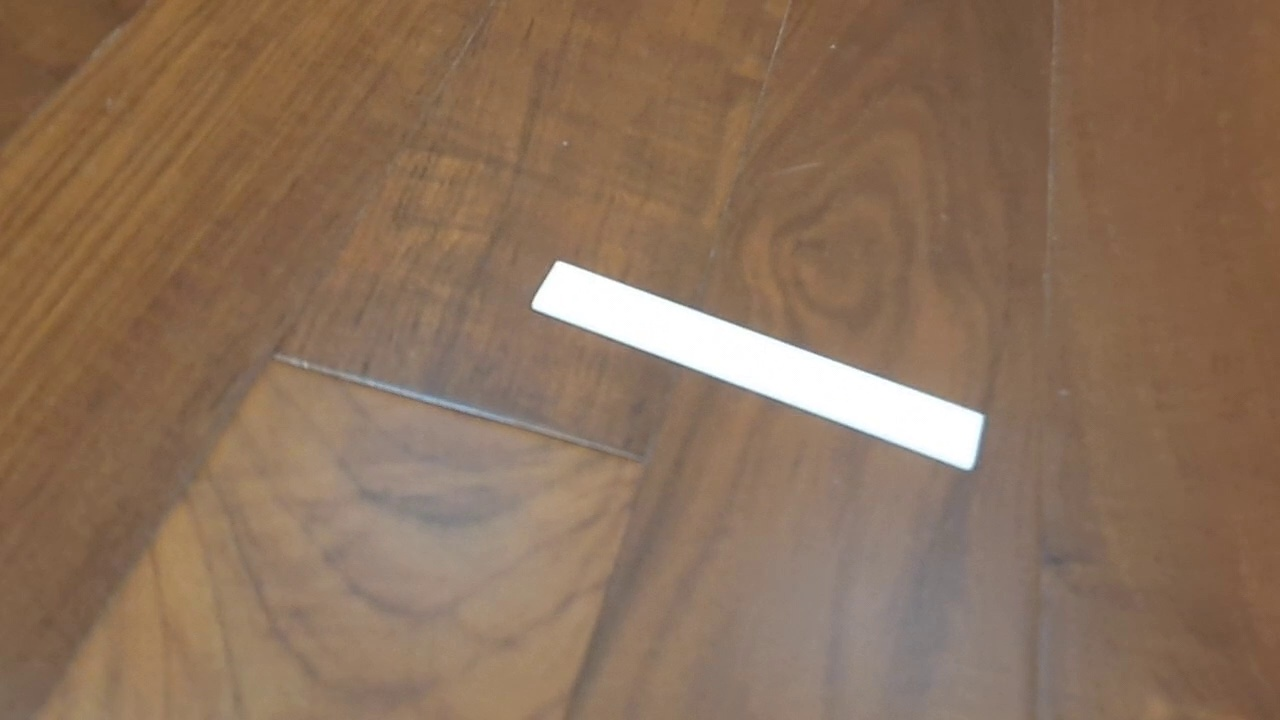ruler: (529, 258, 987, 474)
